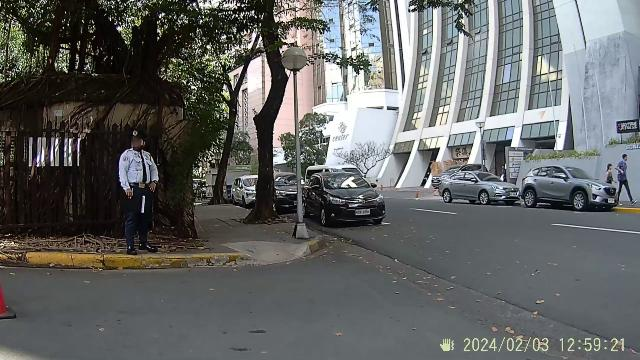car: (436, 164, 618, 209), (303, 168, 389, 228)
lamp_post: (283, 44, 307, 232), (472, 113, 492, 161)
tree: (236, 21, 288, 223)
